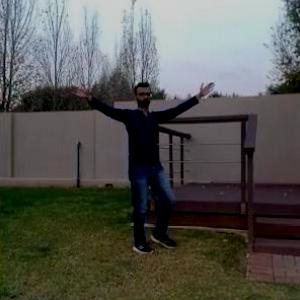takeoff: (54, 76, 206, 262)
